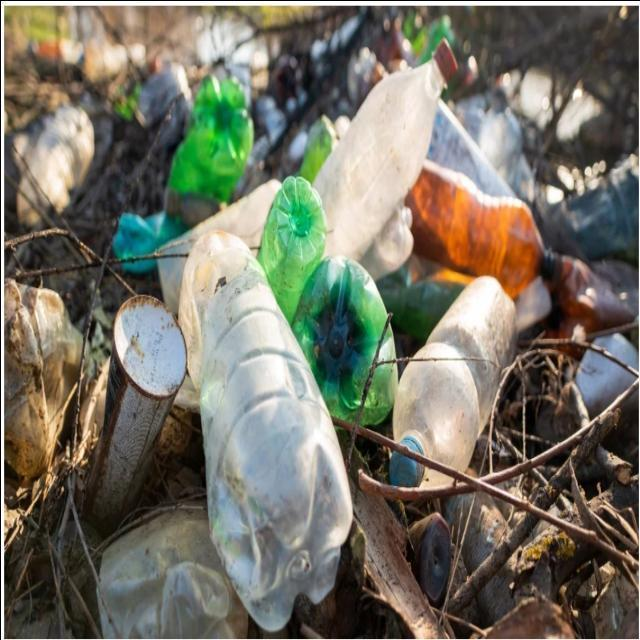Garbage: (5, 6, 638, 636)
Plastic: (408, 512, 450, 605)
Plastic_Bag: (99, 508, 248, 636), (4, 279, 81, 477), (159, 180, 280, 253), (156, 255, 185, 314), (98, 594, 112, 636)
Plastic_bottle: (178, 231, 351, 630), (312, 38, 456, 259), (392, 275, 516, 470), (405, 157, 561, 297), (291, 255, 386, 421), (164, 73, 252, 226), (258, 175, 325, 320), (16, 104, 94, 225), (375, 253, 471, 340), (359, 202, 412, 279), (112, 211, 186, 256), (299, 113, 336, 182), (360, 365, 398, 424), (389, 450, 448, 486), (379, 324, 395, 359), (121, 259, 155, 272)
Tin_box: (81, 295, 186, 536)
